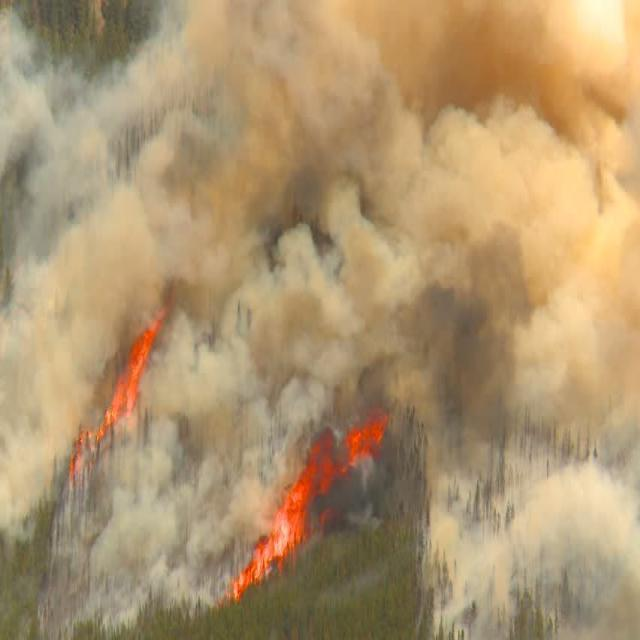Fire: (228, 441, 346, 601), (80, 314, 172, 458)
Smoke: (34, 8, 592, 564)
